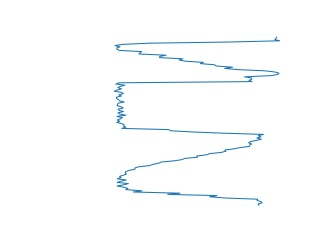distributaryChannelFill: (111, 72, 267, 142)
mouthBar: (111, 34, 283, 76)
underwaterDistributaryChannel: (112, 136, 265, 209)
